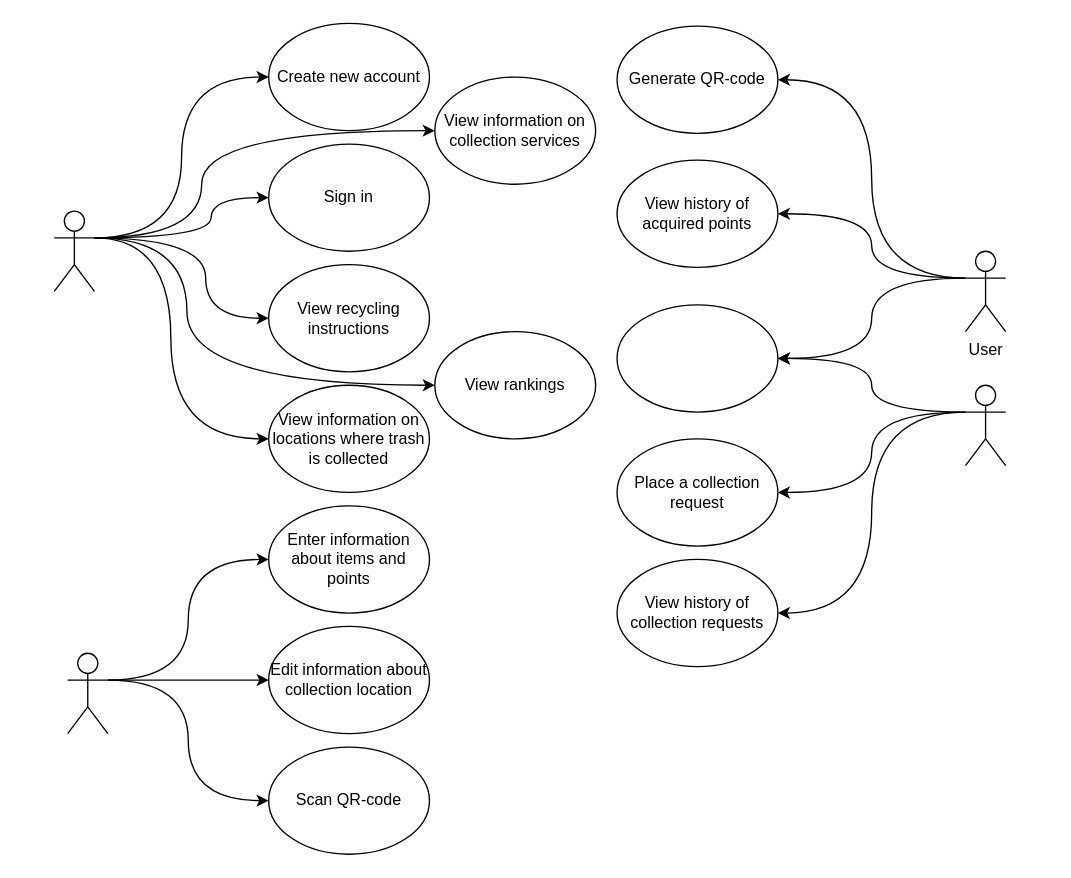
This 1071x878 diagram has some shape labels left out. The centre of each missing label's shape, as x and y in pixels:
"Commercial User" belongs at pixel 985 425.
"Delete account" belongs at pixel 697 358.
"Garbage Collector" belongs at pixel 87 693.
"Visitor" belongs at pixel 73 250.
